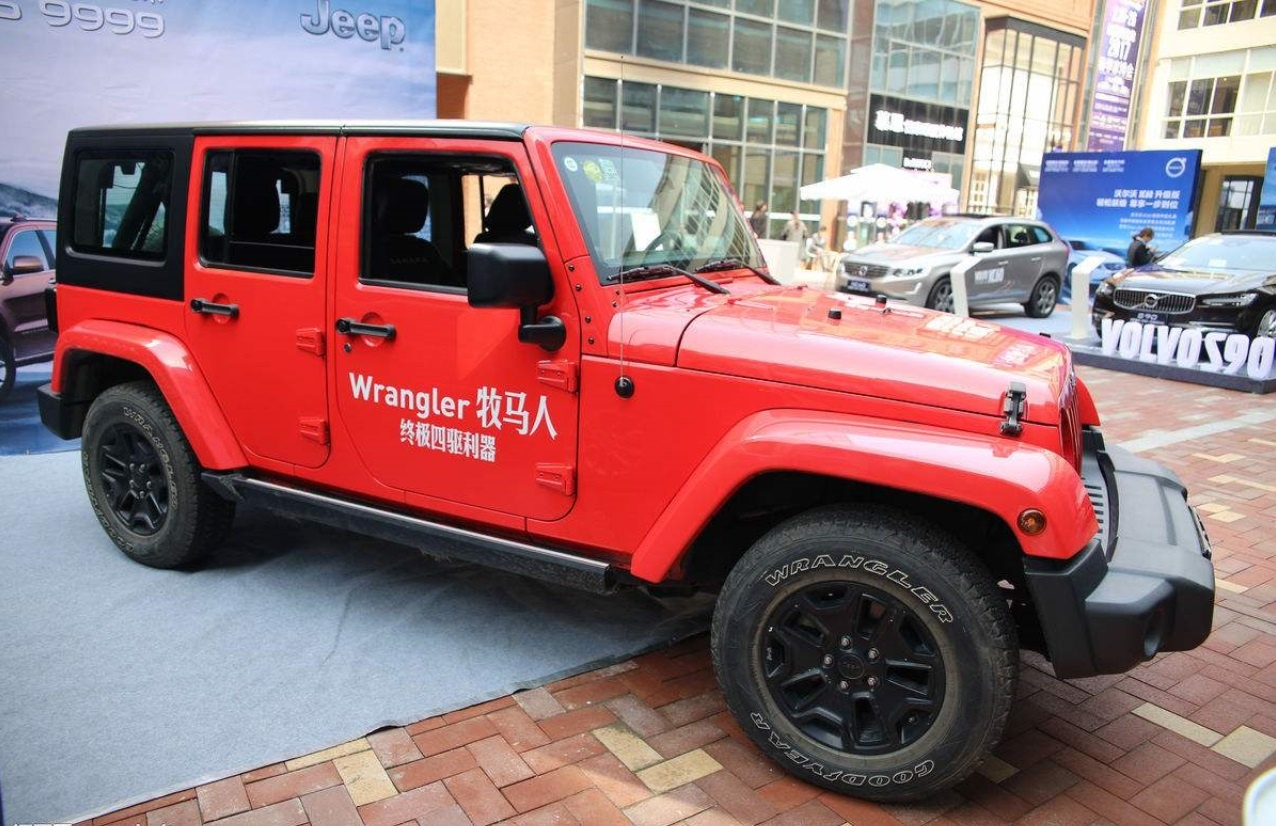jeep: (38, 95, 1207, 760)
